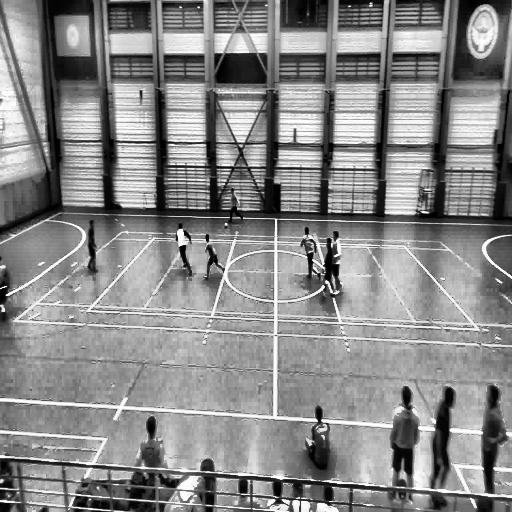ball: (224, 221, 229, 231)
player: (480, 384, 509, 504), (390, 386, 418, 500), (429, 386, 455, 500), (306, 404, 330, 470), (320, 238, 337, 306), (302, 226, 320, 281), (326, 230, 341, 296), (204, 233, 224, 279), (176, 222, 193, 273), (0, 255, 11, 321), (87, 219, 99, 272), (226, 187, 244, 222)
